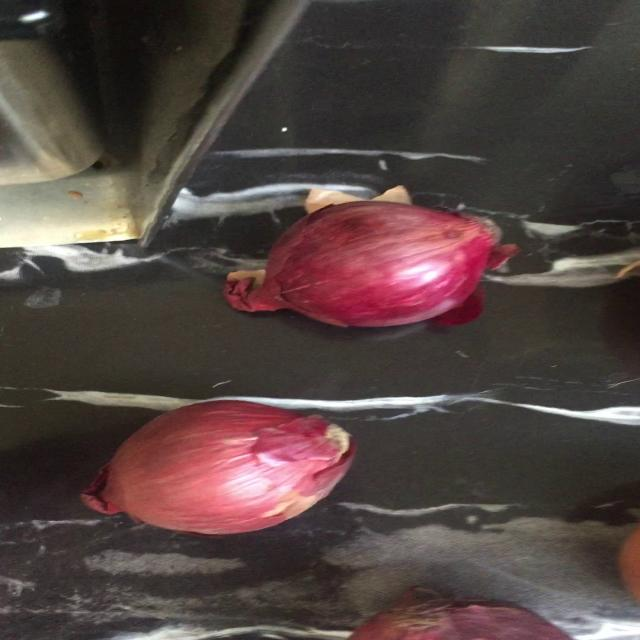Onion: (79, 401, 355, 535), (242, 201, 506, 327), (348, 588, 573, 640)
